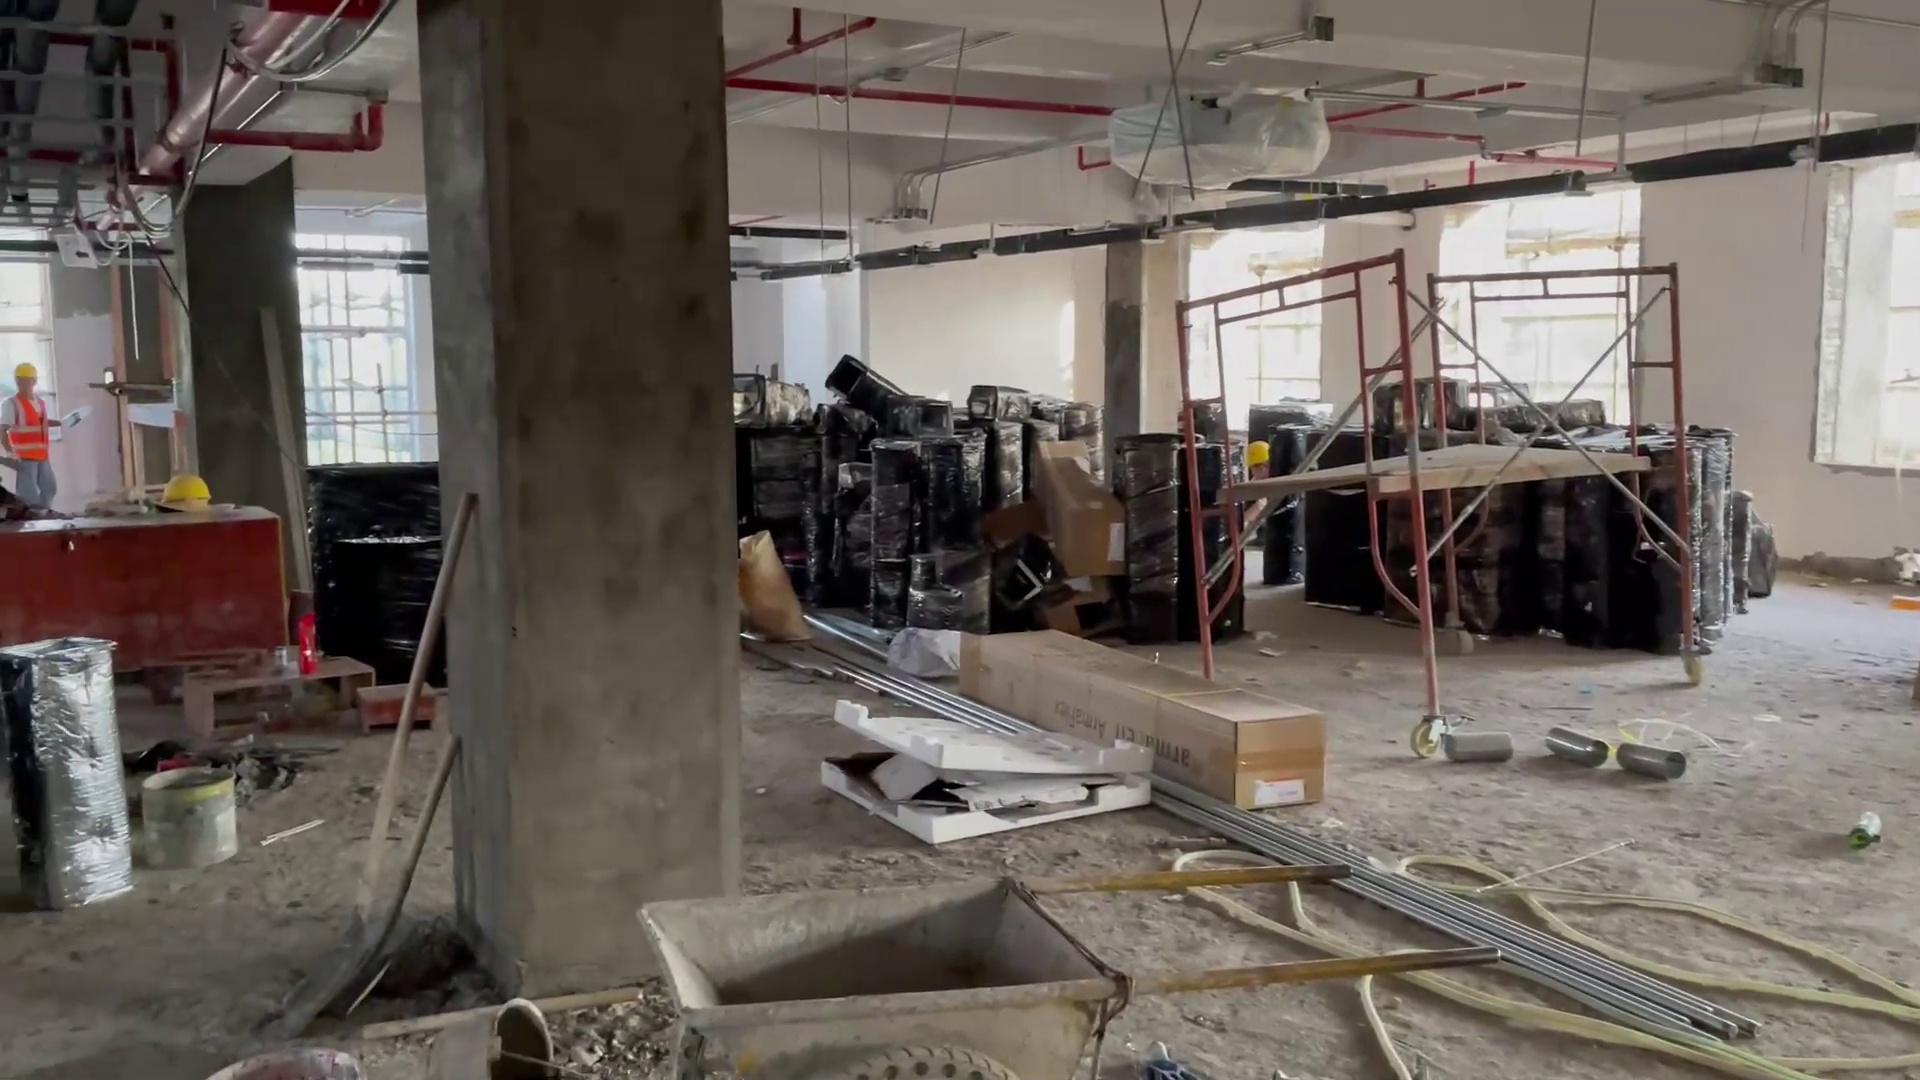helmet: (151, 471, 220, 509), (1240, 435, 1272, 468), (12, 360, 44, 382)
person: (9, 352, 78, 514), (1232, 427, 1286, 525)
vest: (9, 392, 58, 466)
